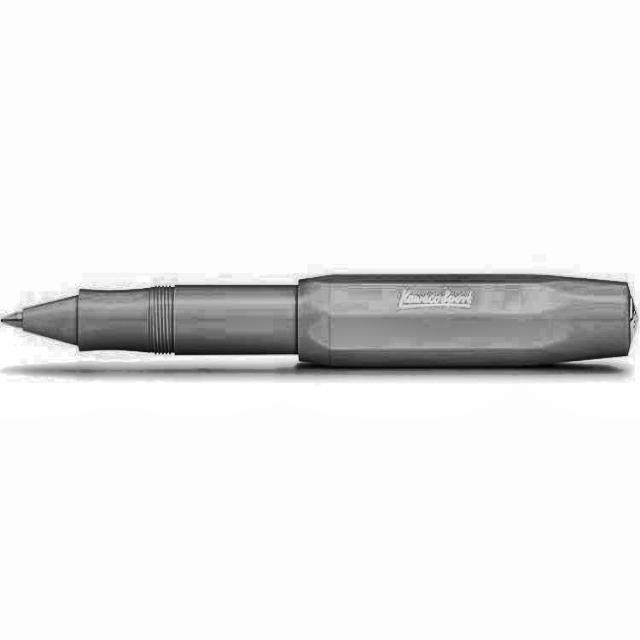Pen: (0, 258, 639, 374)
